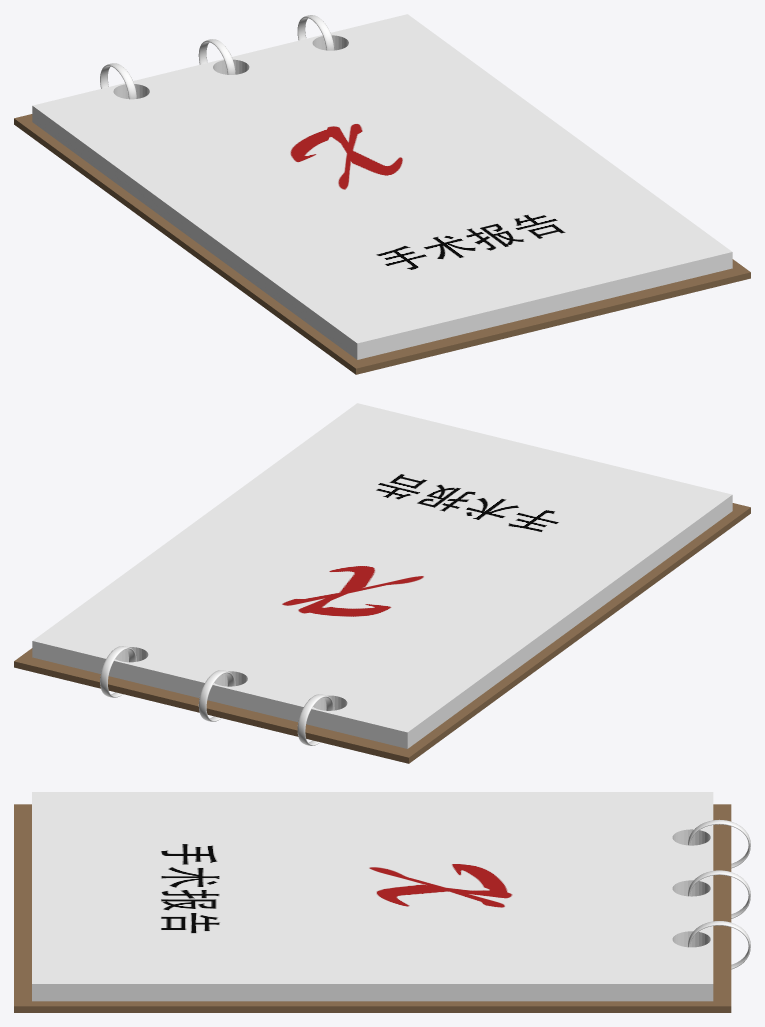
File: surgical_report.fbx
3 renders of one model, top to bottom at view 1: azimuth 30°, elevation 25°; view 2: azimuth 150°, elevation 25°; view 3: azimuth 270°, elevation 25°, orthographic. The views are drawn at different scales.
Parts seen in each view (by area): view 1: 纸和垫板.001; view 2: 纸和垫板.001; view 3: 纸和垫板.001.
Part boxes in pixels (bbox=[...]): 纸和垫板.001: bbox=[14, 14, 750, 374]; 纸和垫板.001: bbox=[14, 403, 750, 763]; 纸和垫板.001: bbox=[14, 792, 750, 1012].
Size of the model in its own units: 200 by 22.22 by 308.
